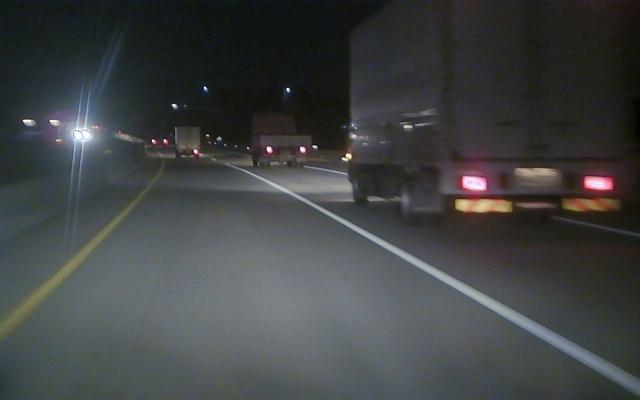lane: (266, 179, 639, 396), (1, 190, 146, 341), (559, 216, 640, 239)
